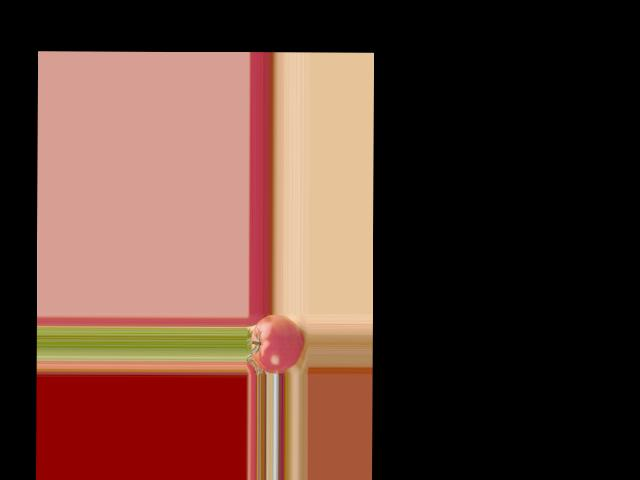tomato: (251, 314, 302, 373)
